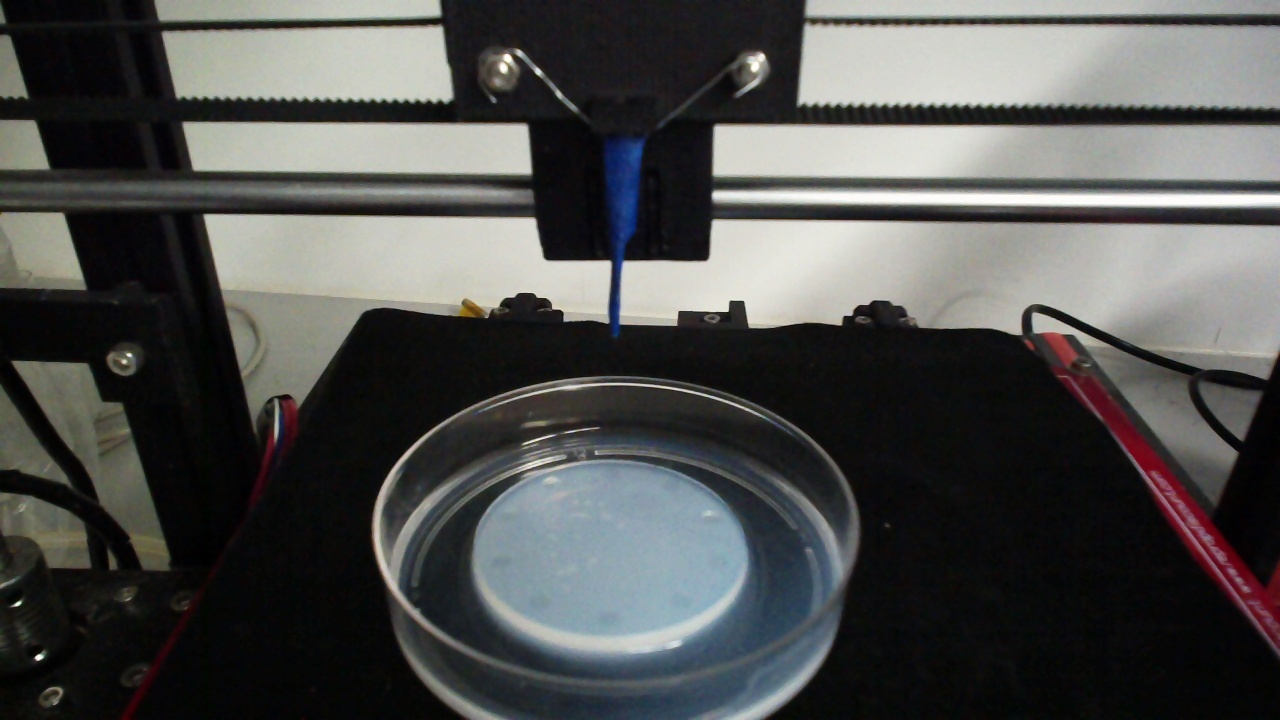groove: (594, 609, 623, 627), (667, 590, 691, 610), (489, 551, 513, 570), (526, 593, 552, 610), (708, 552, 731, 570), (658, 475, 681, 493), (699, 509, 723, 524), (598, 467, 622, 481), (498, 506, 520, 521), (542, 474, 562, 488)
needle: (602, 138, 643, 338)
